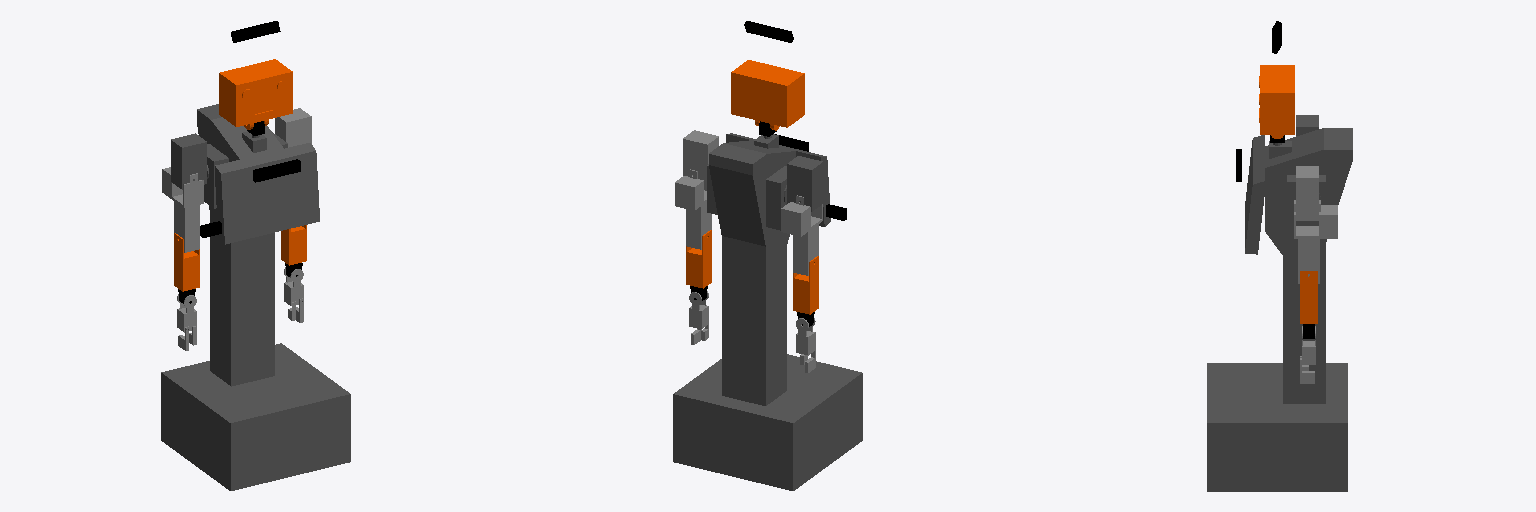
--- Render facts (derived) ---
Views: 3 orthographic renders of the robot side by side, from view 1: azimuth 30°, elevation 25°; view 2: azimuth 150°, elevation 25°; view 3: azimuth 270°, elevation 25°.
Robot: tangymodel_eff — 27 links, 26 joints (18 revolute, 8 fixed); root link base_link_robot; default pose: all joints at 0.
Links seen in each view (by area): view 1: body_link, head_link, right_shoulder_pitch_link, lower_right_arm, left_shoulder_pitch_link, upper_right_arm, right_shoulder_roll_link, lower_left_arm, kinect2_link, left_hand, kinect_link, right_hand; view 2: body_link, head_link, right_shoulder_pitch_link, left_shoulder_pitch_link, right_shoulder_roll_link, lower_left_arm, lower_right_arm, left_shoulder_roll_link, upper_right_arm, upper_left_arm, right_hand, left_hand (+1 smaller); view 3: body_link, head_link, left_shoulder_pitch_link, left_shoulder_roll_link, lower_left_arm, upper_left_arm.
Boxes of the visible links, x1,y1,x2,y2 form: body_link: [161, 104, 350, 490]; head_link: [219, 59, 292, 129]; right_shoulder_pitch_link: [171, 133, 206, 189]; lower_right_arm: [174, 233, 199, 291]; left_shoulder_pitch_link: [275, 108, 311, 147]; upper_right_arm: [174, 201, 199, 252]; right_shoulder_roll_link: [162, 167, 203, 207]; lower_left_arm: [281, 225, 306, 265]; kinect2_link: [253, 159, 300, 182]; left_hand: [284, 267, 303, 305]; kinect_link: [231, 21, 280, 42]; right_hand: [177, 294, 196, 332]; body_link: [673, 133, 862, 490]; head_link: [731, 60, 804, 130]; right_shoulder_pitch_link: [787, 156, 823, 211]; left_shoulder_pitch_link: [683, 130, 718, 185]; right_shoulder_roll_link: [781, 195, 822, 236]; lower_left_arm: [686, 230, 711, 288]; lower_right_arm: [793, 256, 818, 314]; left_shoulder_roll_link: [675, 169, 706, 210]; upper_right_arm: [793, 224, 818, 275]; upper_left_arm: [686, 202, 711, 249]; right_hand: [796, 318, 815, 355]; left_hand: [689, 291, 708, 328]; body_link: [1207, 128, 1352, 491]; head_link: [1259, 65, 1294, 138]; left_shoulder_pitch_link: [1296, 166, 1318, 220]; left_shoulder_roll_link: [1294, 200, 1337, 238]; lower_left_arm: [1300, 271, 1317, 323]; upper_left_arm: [1298, 239, 1319, 283].
Size in the robot's own frame: 0.5213 by 0.498 by 1.62 metres.
19 mesh visuals loaded from 19 distinct referenced files (19 binary STL).

URDF robot description (tangymodel_eff):
<robot
  name="tangymodel_eff">

<!-- ...........................................................Dummy Frame .......................................... -->
  <link
    name="base_link_robot">  <!-- changed name from dummy_link -->
    <inertial>
      <origin
        xyz="0 0 0"
        rpy="0 0 0" />
      <mass
        value="0" />
      <inertia
        ixx="0"
        ixy="0"
        ixz="0"
        iyy="0"
        iyz="0"
        izz="0" />
    </inertial>
    <visual>
      <origin
        xyz="0 0 0"
        rpy="0 0 0" />
      <geometry>
        <box size="0.0001 0.0001 0.0001"/>
      </geometry>
      <material
        name="">
        <color
          rgba="0.392 0.392 0.392 1" />
      </material>
    </visual>
    <collision>
      <origin
        xyz="0 0 0"
        rpy="0 0 0" />
      <geometry>
        <box size="0.00001 0.00001 0.00001"/>
      </geometry>
    </collision>
  </link>
  <joint
    name="dummy_to_base_link"
    type="fixed">
    <parent
      link="base_link_robot" />
    <child
      link="body_link" />
    <origin
      xyz="0.16 0.32 0.52"
      rpy="0 0 0" />
    <limit
      lower="0"
      upper="0"
      effort="10"
      velocity="3"/>
  </joint>
  

<!--  ............................................................Torso..................................................   -->

  <link
    name="body_link">
    <inertial>
      <origin
        xyz="-0.15668 -0.28879 -0.1123"
        rpy="0 0 0" />
      <mass
        value="98.584" />
      <inertia
        ixx="16.47"
        ixy="-0.00095546"
        ixz="0.0055037"
        iyy="16.277"
        iyz="1.152"
        izz="2.8488" />
    </inertial>
    <visual>
      <origin
        xyz="0 0 0"
        rpy="0 0 0" />
      <geometry>
        <mesh
          filename="package://tangymodel_eff/meshes/base_link.STL" />
      </geometry>
      <material
        name="">
        <color
          rgba="0.392 0.392 0.392 1" />
      </material>
    </visual>
    <collision>
      <origin
        xyz="0 0 0"
        rpy="0 0 0" />
      <geometry>
        <mesh
          filename="package://tangymodel_eff/meshes/base_link.STL" />
      </geometry>
    </collision>
  </link>

<!-- ................................................................Head............................................  -->

  <link
    name="neck_link">
    <inertial>
      <origin
        xyz="-5.5511E-17 0.03245 0"
        rpy="0 0 0" />
      <mass
        value="0.11094" />
      <inertia
        ixx="5.0402E-05"
        ixy="-1.3803E-21"
        ixz="-1.5165E-22"
        iyy="3.5718E-05"
        iyz="-1.782E-20"
        izz="4.4646E-05" />
    </inertial>
    <visual>
      <origin
        xyz="0 0 0"
        rpy="0 0 0" />
      <geometry>
        <mesh
          filename="package://tangymodel_eff/meshes/neck_link.STL" />
      </geometry>
      <material
        name="">
        <color
          rgba="0 0 0 1" />
      </material>
    </visual>
    <collision>
      <origin
        xyz="0 0 0"
        rpy="0 0 0" />
      <geometry>
        <mesh
          filename="package://tangymodel_eff/meshes/neck_link.STL" />
      </geometry>
    </collision>
  </link>
  <joint
    name="neck_to_z_revolute"
    type="revolute">
    <origin
      xyz="-0.15677 -0.31736 0.68915"
      rpy="1.5708 0 0" />
    <parent
      link="body_link" />
    <child
      link="neck_link" />
    <axis
      xyz="0 -1 0" />
    <limit
      lower="-0.7853"
      upper="0.7853"
      effort="10"
      velocity="3" />
  </joint>
  <link
    name="head_link">
    <inertial>
      <origin
        xyz="0.00038888 0.10329 0"
        rpy="0 0 0" />
      <mass
        value="4.4164" />
      <inertia
        ixx="0.028366"
        ixy="1.9027E-06"
        ixz="1.2865E-18"
        iyy="0.023632"
        iyz="1.4521E-19"
        izz="0.015291" />
    </inertial>
    <visual>
      <origin
        xyz="0 0 0"
        rpy="0 0 0" />
      <geometry>
        <mesh
          filename="package://tangymodel_eff/meshes/head_link.STL" />
      </geometry>
      <material
        name="">
        <color
          rgba="1 0.416 0 1" />
      </material>
    </visual>
    <collision>
      <origin
        xyz="0 0 0"
        rpy="0 0 0" />
      <geometry>
        <mesh
          filename="package://tangymodel_eff/meshes/head_link.STL" />
      </geometry>
    </collision>
  </link>
  <joint
    name="z_revolute_to_x_revolute"
    type="revolute">
    <origin
      xyz="0 0.05 0"
      rpy="1.5708 -1.5708 -1.5708" />
    <parent
      link="neck_link" />
    <child
      link="head_link" />
    <axis
      xyz="0 0 1" />
    <limit
      lower="-0.3926"
      upper="0.3926"
      effort="10"
      velocity="3" />
  </joint>


<!-- ..............................................................Right Arm...................................................... -->

  <link
    name="right_shoulder_pitch_link">
    <inertial>
      <origin
        xyz="-0.0050069 0.04493 -0.054937"
        rpy="0 0 0" />
      <mass
        value="1.282" />
      <inertia
        ixx="0.0038059"
        ixy="4.8043E-07"
        ixz="4.9634E-07"
        iyy="0.0017545"
        iyz="-3.6072E-06"
        izz="0.0034183" />
    </inertial>
    <visual>
      <origin
        xyz="0 0 0"
        rpy="0 0 0" />
      <geometry>
        <mesh
          filename="package://tangymodel_eff/meshes/right_shoulder_pitch_link.STL" />
      </geometry>
      <material
        name="">
        <color
          rgba="0.392 0.392 0.392 1" />
      </material>
    </visual>
    <collision>
      <origin
        xyz="0 0 0"
        rpy="0 0 0" />
      <geometry>
        <mesh
          filename="package://tangymodel_eff/meshes/right_shoulder_pitch_link.STL" />
      </geometry>
    </collision>
  </link>
  <joint
    name="right_shoulder_x_revolute"
    type="revolute">
    <origin
      xyz="-0.30977 -0.20989 0.54535"
      rpy="1.5708 0 1.5708" />
    <parent
      link="body_link" />
    <child
      link="right_shoulder_pitch_link" />
    <axis
      xyz="0 0 -1" />
    <limit
      lower="-0.34907"
      upper="3.35103"
      effort="100"
      velocity="3" />
  </joint>
  <link
    name="right_shoulder_roll_link">
    <inertial>
      <origin
        xyz="-0.01 -0.0637 -0.05109"
        rpy="0 0 0" />
      <mass
        value="0.57779" />
      <inertia
        ixx="0.0013906"
        ixy="-6.7526E-20"
        ixz="-9.213E-21"
        iyy="0.0012248"
        iyz="-0.00011954"
        izz="0.00077311" />
    </inertial>
    <visual>
      <origin
        xyz="0 0 0"
        rpy="0 0 0" />
      <geometry>
        <mesh
          filename="package://tangymodel_eff/meshes/right_shoulder_roll_link.STL" />
      </geometry>
      <material
        name="">
        <color
          rgba="0.588 0.588 0.588 1" />
      </material>
    </visual>
    <collision>
      <origin
        xyz="0 0 0"
        rpy="0 0 0" />
      <geometry>
        <mesh
          filename="package://tangymodel_eff/meshes/right_shoulder_roll_link.STL" />
      </geometry>
    </collision>
  </link>
  <joint
    name="upper_right_arm_y_revolute_joint"
    type="revolute">
    <origin
      xyz="0 0 -0.05"
      rpy="0 -1.5708 0" />
    <parent
      link="right_shoulder_pitch_link" />
    <child
      link="right_shoulder_roll_link" />
    <axis
      xyz="0 0 1" />
    <limit
      lower="-1.9199"
      upper="0"
      effort="100"
      velocity="3" />
  </joint>
  <link
    name="upper_right_arm">
    <inertial>
      <origin
        xyz="1.6669E-05 -0.086496 0"
        rpy="0 0 0" />
      <mass
        value="0.76566" />
      <inertia
        ixx="0.0022039"
        ixy="-6.3819E-07"
        ixz="-4.4538E-20"
        iyy="0.00058852"
        iyz="-1.4684E-19"
        izz="0.0020752" />
    </inertial>
    <visual>
      <origin
        xyz="0 0 0"
        rpy="0 0 0" />
      <geometry>
        <mesh
          filename="package://tangymodel_eff/meshes/upper_right_arm.STL" />
      </geometry>
      <material
        name="">
        <color
          rgba="0.588 0.588 0.588 1" />
      </material>
    </visual>
    <collision>
      <origin
        xyz="0 0 0"
        rpy="0 0 0" />
      <geometry>
        <mesh
          filename="package://tangymodel_eff/meshes/upper_right_arm.STL" />
      </geometry>
    </collision>
  </link>
  <joint
    name="upper_right_arm_z_revolute_joint"
    type="revolute">
    <origin
      xyz="-0.01 -0.11 0"
      rpy="0 0 0" />
    <parent
      link="right_shoulder_roll_link" />
    <child
      link="upper_right_arm" />
    <axis
      xyz="0 -1 0" />
    <limit
      lower="-1.8326"
      upper="1.8326"
      effort="100"
      velocity="3" />
  </joint>
  <link
    name="lower_right_arm">
    <inertial>
      <origin
        xyz="-3.0531E-16 -0.11496 5.5511E-17"
        rpy="0 0 0" />
      <mass
        value="0.57079" />
      <inertia
        ixx="0.0013783"
        ixy="2.3875E-18"
        ixz="-6.9845E-21"
        iyy="0.00043224"
        iyz="-1.2881E-19"
        izz="0.0012882" />
    </inertial>
    <visual>
      <origin
        xyz="0 0 0"
        rpy="0 0 0" />
      <geometry>
        <mesh
          filename="package://tangymodel_eff/meshes/lower_right_arm.STL" />
      </geometry>
      <material
        name="">
        <color
          rgba="1 0.416 0 1" />
      </material>
    </visual>
    <collision>
      <origin
        xyz="0 0 0"
        rpy="0 0 0" />
      <geometry>
        <mesh
          filename="package://tangymodel_eff/meshes/lower_right_arm.STL" />
      </geometry>
    </collision>
  </link>
  <joint
    name="upper_to_lower_right_joint"
    type="revolute">
    <origin
      xyz="0 -0.1365 0"
      rpy="0 1.5708 0" />
    <parent
      link="upper_right_arm" />
    <child
      link="lower_right_arm" />
    <axis
      xyz="0 0 1" />
    <limit
      lower="-2.2515"
      upper="0"
      effort="100"
      velocity="3" />
  </joint>
  <link
    name="right_wrist_link">
    <inertial>
      <origin
        xyz="-9.359E-05 0.031821 5.5511E-17"
        rpy="0 0 0" />
      <mass
        value="0.094409" />
      <inertia
        ixx="3.9877E-05"
        ixy="-1.1645E-07"
        ixz="4.4633E-21"
        iyy="2.5724E-05"
        iyz="-1.1782E-20"
        izz="3.9412E-05" />
    </inertial>
    <visual>
      <origin
        xyz="0 0 0"
        rpy="0 0 0" />
      <geometry>
        <mesh
          filename="package://tangymodel_eff/meshes/right_wrist_link.STL" />
      </geometry>
      <material
        name="">
        <color
          rgba="0 0 0 1" />
      </material>
    </visual>
    <collision>
      <origin
        xyz="0 0 0"
        rpy="0 0 0" />
      <geometry>
        <mesh
          filename="package://tangymodel_eff/meshes/right_wrist_link.STL" />
      </geometry>
    </collision>
  </link>
  <joint
    name="wrist_right_arm_z_revolute_joint"
    type="revolute">
    <origin
      xyz="0 -0.19 0"
      rpy="3.141 0 0" />
    <parent
      link="lower_right_arm" />
    <child
      link="right_wrist_link" />
    <axis
      xyz="0 1 0" />
    <limit
      lower="-1.5708"
      upper="1.5708"
      effort="25"
      velocity="3" />
  </joint>
  <link
    name="right_hand">
    <inertial>
      <origin
        xyz="-5.5511E-17 -2.713E-05 0.061837"
        rpy="0 0 0" />
      <mass
        value="0.19902" />
      <inertia
        ixx="0.00022561"
        ixy="1.0575E-21"
        ixz="9.7799E-21"
        iyy="0.00021686"
        iyz="-1.7907E-07"
        izz="8.8688E-05" />
    </inertial>
    <visual>
      <origin
        xyz="0 0 0"
        rpy="0 0 0" />
      <geometry>
        <mesh
          filename="package://tangymodel_eff/meshes/right_hand.STL" />
      </geometry>
      <material
        name="">
        <color
          rgba="0.588 0.588 0.588 1" />
      </material>
    </visual>
    <collision>
      <origin
        xyz="0 0 0"
        rpy="0 0 0" />
      <geometry>
        <mesh
          filename="package://tangymodel_eff/meshes/right_hand.STL" />
      </geometry>
    </collision>
  </link>
  <joint
    name="lower_to_wrist_right_arm"
    type="revolute">
    <origin
      xyz="0 0.05 0"
      rpy="-1.5708 -1.5708 0" />
    <parent
      link="right_wrist_link" />
    <child
      link="right_hand" />
    <axis
      xyz="0 -1 0" />
    <limit
      lower="-1.0472"
      upper="1.48353"
      effort="0"
      velocity="0" />
  </joint>
  <link
    name="right_top_fingers">
    <inertial>
      <origin
        xyz="-0.0072645 -5.5511E-17 0.055647"
        rpy="0 0 0" />
      <mass
        value="0.033357" />
      <inertia
        ixx="1.0957E-05"
        ixy="2.9435E-21"
        ixz="2.9379E-06"
        iyy="1.8112E-05"
        iyz="-8.2775E-22"
        izz="8.4159E-06" />
    </inertial>
    <visual>
      <origin
        xyz="0 0 0"
        rpy="0 0 0" />
      <geometry>
        <mesh
          filename="package://tangymodel_eff/meshes/right_top_fingers.STL" />
      </geometry>
      <material
        name="">
        <color
          rgba="0.588 0.588 0.588 1" />
      </material>
    </visual>
    <collision>
      <origin
        xyz="0 0 0"
        rpy="0 0 0" />
      <geometry>
        <mesh
          filename="package://tangymodel_eff/meshes/right_top_fingers.STL" />
      </geometry>
    </collision>
  </link>
  <joint
    name="wrist_to_finger1_right_arm"
    type="revolute">
    <origin
      xyz="0.015 0 0.095"
      rpy="0 0 1.5708" />
    <parent
      link="right_hand" />
    <child
      link="right_top_fingers" />
    <axis
      xyz="1 0 0" />
    <limit
      lower="-0.68"
      upper="0"
      effort="50"
      velocity="3" />
  </joint>
  <link
    name="right_bottom_fingers">
    <inertial>
      <origin
        xyz="0.016728 0.042728 0"
        rpy="0 0 0" />
      <mass
        value="0.018277" />
      <inertia
        ixx="4.798E-06"
        ixy="-9.3943E-07"
        ixz="-1.8907E-22"
        iyy="1.8711E-06"
        iyz="9.6009E-22"
        izz="5.9803E-06" />
    </inertial>
    <visual>
      <origin
        xyz="0 0 0"
        rpy="0 0 0" />
      <geometry>
        <mesh
          filename="package://tangymodel_eff/meshes/right_bottom_fingers.STL" />
      </geometry>
      <material
        name="">
        <color
          rgba="0.588 0.588 0.588 1" />
      </material>
    </visual>
    <collision>
      <origin
        xyz="0 0 0"
        rpy="0 0 0" />
      <geometry>
        <mesh
          filename="package://tangymodel_eff/meshes/right_bottom_fingers.STL" />
      </geometry>
    </collision>
  </link>
  <joint
    name="wrist_to_finger2_right_arm"
    type="revolute">
    <origin
      xyz="-0.015 0 0.095"
      rpy="1.5708 0 -1.5708" />
    <parent
      link="right_hand" />
    <child
      link="right_bottom_fingers" />
    <axis
      xyz="-1 0 0" />
    <limit
      lower="0"
      upper="0.68"
      effort="50"
      velocity="3" />
  </joint>


<!-- .................................................................Left Shoulder.............................................  -->

  <link
    name="left_shoulder_pitch_link">
    <inertial>
      <origin
        xyz="0.0050069 0.04493 -0.051164"
        rpy="0 0 0" />
      <mass
        value="1.282" />
      <inertia
        ixx="0.0038059"
        ixy="-4.8043E-07"
        ixz="-4.9634E-07"
        iyy="0.0017545"
        iyz="-3.6072E-06"
        izz="0.0034183" />
    </inertial>
    <visual>
      <origin
        xyz="0 0 0"
        rpy="0 0 0" />
      <geometry>
        <mesh
          filename="package://tangymodel_eff/meshes/left_shoulder_pitch_link.STL" />
      </geometry>
      <material
        name="">
        <color
          rgba="0.588 0.588 0.588 1" />
      </material>
    </visual>
    <collision>
      <origin
        xyz="0 0 0"
        rpy="0 0 0" />
      <geometry>
        <mesh
          filename="package://tangymodel_eff/meshes/left_shoulder_pitch_link.STL" />
      </geometry>
    </collision>
  </link>
  <joint
    name="left_shoulder_x_revolute"
    type="revolute">
    <origin
      xyz="0 -0.20989 0.54535"
      rpy="1.5708 0 -1.5708" />
    <parent
      link="body_link" />
    <child
      link="left_shoulder_pitch_link" />
    <axis
      xyz="0 0 1" />
    <limit
      lower="-0.34907"
      upper="3.35103"
      effort="100"
      velocity="3" />
  </joint>
  <link
    name="left_shoulder_roll_link">
    <inertial>
      <origin
        xyz="0.0062272 -0.0637 -0.05109"
        rpy="0 0 0" />
      <mass
        value="0.57779" />
      <inertia
        ixx="0.0013906"
        ixy="4.8396E-20"
        ixz="-2.5898E-19"
        iyy="0.0012248"
        iyz="-0.00011954"
        izz="0.00077311" />
    </inertial>
    <visual>
      <origin
        xyz="0 0 0"
        rpy="0 0 0" />
      <geometry>
        <mesh
          filename="package://tangymodel_eff/meshes/left_shoulder_roll_link.STL" />
      </geometry>
      <material
        name="">
        <color
          rgba="0.588 0.588 0.588 1" />
      </material>
    </visual>
    <collision>
      <origin
        xyz="0 0 0"
        rpy="0 0 0" />
      <geometry>
        <mesh
          filename="package://tangymodel_eff/meshes/left_shoulder_roll_link.STL" />
      </geometry>
    </collision>
  </link>
  <joint
    name="upper_left_arm_y_revolute_joint"
    type="revolute">
    <origin
      xyz="0 0 -0.05"
      rpy="0 1.5708 0" />
    <parent
      link="left_shoulder_pitch_link" />
    <child
      link="left_shoulder_roll_link" />
    <axis
      xyz="0 0 -1" />
    <limit
      lower="-1.9198"
      upper="0"
      effort="100"
      velocity="3" />
  </joint>
  <link
    name="upper_left_arm">
    <inertial>
      <origin
        xyz="1.6671E-05 -0.085974 -8.3267E-17"
        rpy="0 0 0" />
      <mass
        value="0.76557" />
      <inertia
        ixx="0.0022032"
        ixy="-6.3806E-07"
        ixz="-7.4539E-20"
        iyy="0.00058852"
        iyz="1.3527E-18"
        izz="0.0020746" />
    </inertial>
    <visual>
      <origin
        xyz="0 0 0"
        rpy="0 0 0" />
      <geometry>
        <mesh
          filename="package://tangymodel_eff/meshes/upper_left_arm.STL" />
      </geometry>
      <material
        name="">
        <color
          rgba="0.588 0.588 0.588 1" />
      </material>
    </visual>
    <collision>
      <origin
        xyz="0 0 0"
        rpy="0 0 0" />
      <geometry>
        <mesh
          filename="package://tangymodel_eff/meshes/upper_left_arm.STL" />
      </geometry>
    </collision>
  </link>
  <joint
    name="upper_left_arm_z_revolute_joint"
    type="revolute">
    <origin
      xyz="0.0062272 -0.11003 0"
      rpy="0 0 0" />
    <parent
      link="left_shoulder_roll_link" />
    <child
      link="upper_left_arm" />
    <axis
      xyz="0 1 0" />
    <limit
      lower="-1.8326"
      upper="1.8326"
      effort="100"
      velocity="3" />
  </joint>
  <link
    name="lower_left_arm">
    <inertial>
      <origin
        xyz="-1.3878E-16 -0.11496 8.9512E-16"
        rpy="0 0 0" />
      <mass
        value="0.57079" />
      <inertia
        ixx="0.0013783"
        ixy="7.8732E-19"
        ixz="1.3553E-19"
        iyy="0.00043224"
        iyz="-6.3072E-18"
        izz="0.0012882" />
    </inertial>
    <visual>
      <origin
        xyz="0 0 0"
        rpy="0 0 0" />
      <geometry>
        <mesh
          filename="package://tangymodel_eff/meshes/lower_left_arm.STL" />
      </geometry>
      <material
        name="">
        <color
          rgba="1 0.416 0 1" />
      </material>
    </visual>
    <collision>
      <origin
        xyz="0 0 0"
        rpy="0 0 0" />
      <geometry>
        <mesh
          filename="package://tangymodel_eff/meshes/lower_left_arm.STL" />
      </geometry>
    </collision>
  </link>
  <joint
    name="upper_to_lower_left_joint"
    type="revolute">
    <origin
      xyz="0 -0.13597 0"
      rpy="0 -1.5708 0" />
    <parent
      link="upper_left_arm" />
    <child
      link="lower_left_arm" />
    <axis
      xyz="0 0 -1" />
    <limit
      lower="-2.2515"
      upper="0"
      effort="100"
      velocity="3" />
  </joint>
  <link
    name="left_wrist_link">
    <inertial>
      <origin
        xyz="-9.359E-05 0.031809 -9.0206E-17"
        rpy="0 0 0" />
      <mass
        value="0.094409" />
      <inertia
        ixx="3.9877E-05"
        ixy="-1.1645E-07"
        ixz="-2.8058E-21"
        iyy="2.5724E-05"
        iyz="-3.121E-20"
        izz="3.9412E-05" />
    </inertial>
    <visual>
      <origin
        xyz="0 0 0"
        rpy="0 0 0" />
      <geometry>
        <mesh
          filename="package://tangymodel_eff/meshes/left_wrist_link.STL" />
      </geometry>
      <material
        name="">
        <color
          rgba="0 0 0 1" />
      </material>
    </visual>
    <collision>
      <origin
        xyz="0 0 0"
        rpy="0 0 0" />
      <geometry>
        <mesh
          filename="package://tangymodel_eff/meshes/left_wrist_link.STL" />
      </geometry>
    </collision>
  </link>
  <joint
    name="wrist_left_arm_z_revolute_joint"
    type="revolute">
    <origin
      xyz="0 -0.19001 0"
      rpy="3.141 0 0" />
    <parent
      link="lower_left_arm" />
    <child
      link="left_wrist_link" />
    <axis
      xyz="0 -1 0" />
    <limit
      lower="-1.5708"
      upper="1.5708"
      effort="25"
      velocity="3" />
  </joint>
  <link
    name="left_hand">
    <inertial>
      <origin
        xyz="0 -2.713E-05 0.061825"
        rpy="0 0 0" />
      <mass
        value="0.19902" />
      <inertia
        ixx="0.00022561"
        ixy="-4.5316E-20"
        ixz="8.7405E-20"
        iyy="0.00021686"
        iyz="-1.7907E-07"
        izz="8.8688E-05" />
    </inertial>
    <visual>
      <origin
        xyz="0 0 0"
        rpy="0 0 0" />
      <geometry>
        <mesh
          filename="package://tangymodel_eff/meshes/left_hand.STL" />
      </geometry>
      <material
        name="">
        <color
          rgba="0.588 0.588 0.588 1" />
      </material>
    </visual>
    <collision>
      <origin
        xyz="0 0 0"
        rpy="0 0 0" />
      <geometry>
        <mesh
          filename="package://tangymodel_eff/meshes/left_hand.STL" />
      </geometry>
    </collision>
  </link>
  <joint
    name="lower_to_wrist_left_arm"
    type="revolute">
    <origin
      xyz="0 0.05 0"
      rpy="-1.5708 1.5708 0" />
    <parent
      link="left_wrist_link" />
    <child
      link="left_hand" />
    <axis
      xyz="0 1 0" />
    <limit
      lower="-1.0472"
      upper="1.48353"
      effort="25"
      velocity="3" />
  </joint>
  <link
    name="left_top_fingers">
    <inertial>
      <origin
        xyz="-0.0072645 0 0.055647"
        rpy="0 0 0" />
      <mass
        value="0.033357" />
      <inertia
        ixx="1.0957E-05"
        ixy="-1.8449E-20"
        ixz="2.9379E-06"
        iyy="1.8112E-05"
        iyz="-7.0054E-21"
        izz="8.4159E-06" />
    </inertial>
    <visual>
      <origin
        xyz="0 0 0"
        rpy="0 0 0" />
      <geometry>
        <mesh
          filename="package://tangymodel_eff/meshes/left_top_fingers.STL" />
      </geometry>
      <material
        name="">
        <color
          rgba="0.588 0.588 0.588 1" />
      </material>
    </visual>
    <collision>
      <origin
        xyz="0 0 0"
        rpy="0 0 0" />
      <geometry>
        <mesh
          filename="package://tangymodel_eff/meshes/left_top_fingers.STL" />
      </geometry>
    </collision>
  </link>
  <joint
    name="wrist_to_finger1_left_arm"
    type="revolute">
    <origin
      xyz="-0.015 0 0.094988"
      rpy="0 0 1.5708" />
    <parent
      link="left_hand" />
    <child
      link="left_top_fingers" />
    <axis
      xyz="1 0 0" />
    <limit
      lower="-0.68"
      upper="0"
      effort="10"
      velocity="3" />
  </joint>
  <link
    name="left_bottom_fingers">
    <inertial>
      <origin
        xyz="0.0167281620288509 -0.0427282906188924 -4.85722573273506E-17"
        rpy="0 0 0" />
      <mass
        value="0.0182768252295753" />
      <inertia
        ixx="4.7979749986511E-06"
        ixy="9.39430284405547E-07"
        ixz="-2.39551505395357E-21"
        iyy="1.87112397057946E-06"
        iyz="-2.00425862421599E-21"
        izz="5.98034326538814E-06" />
    </inertial>
    <visual>
      <origin
        xyz="0 0 0"
        rpy="0 0 0" />
      <geometry>
        <mesh
          filename="package://tangymodel_eff/meshes/left_bottom_fingers.STL" />
      </geometry>
      <material
        name="">
        <color
          rgba="0.588 0.588 0.588 1" />
      </material>
    </visual>
    <collision>
      <origin
        xyz="0 0 0"
        rpy="0 0 0" />
      <geometry>
        <mesh
          filename="package://tangymodel_eff/meshes/left_bottom_fingers.STL" />
      </geometry>
    </collision>
  </link>
  <joint
    name="wrist_to_finger2_left_arm"
    type="revolute">
    <origin
      xyz="0.015 0 0.094988"
      rpy="-1.5708 0 -1.5708" />
    <parent
      link="left_hand" />
    <child
      link="left_bottom_fingers" />
    <axis
      xyz="-1 0 0" />
    <limit
      lower="0"
      upper="0.68"
      effort="10"
      velocity="3" />
  </joint>


<!-- ............................................................Kinect Sensor................................................ -->

  <joint name="kinect_joint" type="fixed">
    <limit effort="1000.0" lower="0" upper="0" velocity="0"/>
    <parent link="base_link_robot"/>
    <child link="kinect_link"/>
    <origin rpy="0 2.7 -1.5705" xyz="0 0 1.60"/>
  </joint>
  <link name="kinect_link">
    <visual>
      <geometry>
        <box size="0.02 0.18 0.04"/>
      </geometry>
      <material name="grey">
        <color rgba="0 0 0 0.5"/>
      </material>
    </visual>
    <collision>
      <geometry>
        <box size="0.0001 0.0001 0.0001"/>
      </geometry>
    </collision>
    <inertial>
      <mass value="0.01"/>
      <inertia ixx=".0001" ixy="0.0" ixz="0.0" iyy=".0001" iyz="0.0" izz=".0001"/>
    </inertial>
  </link>
  <joint name="kinect_depth_joint" type="fixed">
    <limit effort="1000.0" lower="0" upper="0" velocity="0"/>
    <parent link="kinect_link"/>
    <child link="kinect_depth_frame"/>
    <origin rpy="0 -0.05 -1.5705" xyz="0 0.05 0"/>
  </joint>
  <link name="kinect_depth_frame" >
    <visual>
      <geometry>
        <box size="0.0001 0.0001 0.0001"/>
      </geometry>
      <material name="grey">
        <color rgba="0 0 0 0.5"/>
      </material>
    </visual>
    <collision>
      <geometry>
        <box size="0.0001 0.0001 0.0001"/>
      </geometry>
    </collision>
    <inertial>
      <mass value="0.01"/>
      <inertia ixx=".0001" ixy="0.0" ixz="0.0" iyy=".0001" iyz="0.0" izz=".0001"/>
    </inertial>
  </link>
  <joint name="kinect_optical_joint" type="fixed">
    <origin rpy="0 0.0 0" xyz="0 0.001 0"/>
    <parent link="kinect_depth_frame"/>
    <child link="kinect_rgb_optical_frame"/>
  </joint>
  <link name="kinect_rgb_optical_frame" >
    <visual>
      <geometry>
        <box size="0.0001 0.0001 0.0001"/>
      </geometry>
      <material name="grey">
        <color rgba="0 0 0 0.5"/>
      </material>
    </visual>
    <collision>
      <geometry>
        <box size="0.0001 0.0001 0.0001"/>
      </geometry>
    </collision>
    <inertial>
      <mass value="0.01"/>
      <inertia ixx=".0001" ixy="0.0" ixz="0.0" iyy=".0001" iyz="0.0" izz=".0001"/>
    </inertial>
  </link>

<!-- KINECT 2 (LOWER) -->

  <joint name="kinect2_joint" type="fixed">
    <limit effort="1000.0" lower="0" upper="0" velocity="0"/>
    <parent link="body_link"/>
    <child link="kinect2_link"/>
    <origin rpy="0 0 4.71" xyz="-0.15 -0.45 0.60"/>
  </joint>
  <link name="kinect2_link">
    <visual>
      <geometry>
        <box size="0.02 0.18 0.04"/>
      </geometry>
      <material name="grey">
        <color rgba="0 0 0 0.5"/>
      </material>
    </visual>
    <collision>
      <geometry>
        <box size="0.0001 0.0001 0.0001"/>
      </geometry>
    </collision>
    <inertial>
      <mass value="0.01"/>
      <inertia ixx=".0001" ixy="0.0" ixz="0.0" iyy=".0001" iyz="0.0" izz=".0001"/>
    </inertial>
  </link>
  <joint name="kinect2_depth_joint" type="fixed">
    <limit effort="1000.0" lower="0" upper="0" velocity="0"/>
    <parent link="kinect2_link"/>
    <child link="kinect2_depth_frame"/>
    <origin rpy="0 -0.05 -1.5705" xyz="0 0 0"/>
  </joint>
  <link name="kinect2_depth_frame" >
    <visual>
      <geometry>
        <box size="0.0001 0.0001 0.0001"/>
      </geometry>
      <material name="grey">
        <color rgba="0 0 0 0.5"/>
      </material>
    </visual>
    <collision>
      <geometry>
        <box size="0.0001 0.0001 0.0001"/>
      </geometry>
    </collision>
    <inertial>
      <mass value="0.01"/>
      <inertia ixx=".0001" ixy="0.0" ixz="0.0" iyy=".0001" iyz="0.0" izz=".0001"/>
    </inertial>
  </link>
  <joint name="kinect2_optical_joint" type="fixed">
    <origin rpy="0 0.0 0" xyz="0 0.001 0"/>
    <parent link="kinect2_depth_frame"/>
    <child link="kinect2_rgb_optical_frame"/>
  </joint>
  <link name="kinect2_rgb_optical_frame" >
    <visual>
      <geometry>
        <box size="0.0001 0.0001 0.0001"/>
      </geometry>
      <material name="grey">
        <color rgba="0 0 0 0.5"/>
      </material>
    </visual>
    <collision>
      <geometry>
        <box size="0.0001 0.0001 0.0001"/>
      </geometry>
    </collision>
    <inertial>
      <mass value="0.01"/>
      <inertia ixx=".0001" ixy="0.0" ixz="0.0" iyy=".0001" iyz="0.0" izz=".0001"/>
    </inertial>
  </link>
<!-- .................................USB Port............................................ -->
  <joint name="usb_joint" type="fixed">
    <limit effort="1000.0" lower="0" upper="0" velocity="0"/>
    <parent link="body_link"/>
    <child link="usb_link"/>
    <origin rpy="0 0 4.71" xyz="-0.38 -0.40 0.410"/>
  </joint>
  <link name="usb_link">
    <visual>
      <geometry>
        <box size="0.02 0.08 0.04"/>
      </geometry>
      <material name="grey">
        <color rgba="0 0 0 0.5"/>
      </material>
    </visual>
    <collision>
      <geometry>
        <box size="0.02 0.1 0.04"/>
      </geometry>
    </collision>
    <inertial>
      <mass value="0.01"/>
      <inertia ixx=".0001" ixy="0.0" ixz="0.0" iyy=".0001" iyz="0.0" izz=".0001"/>
    </inertial>
  </link>
</robot>
